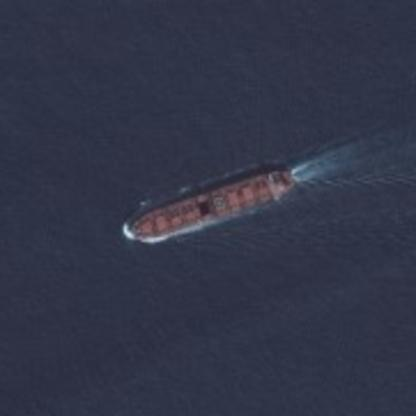ship: (116, 155, 302, 255)
